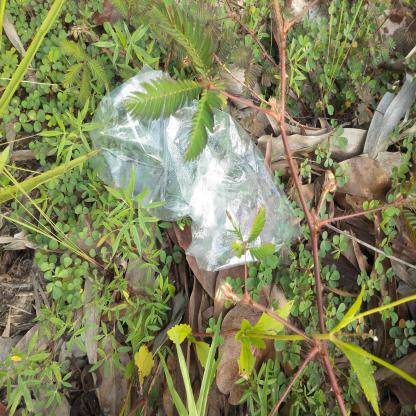plastik: (90, 63, 302, 272)
